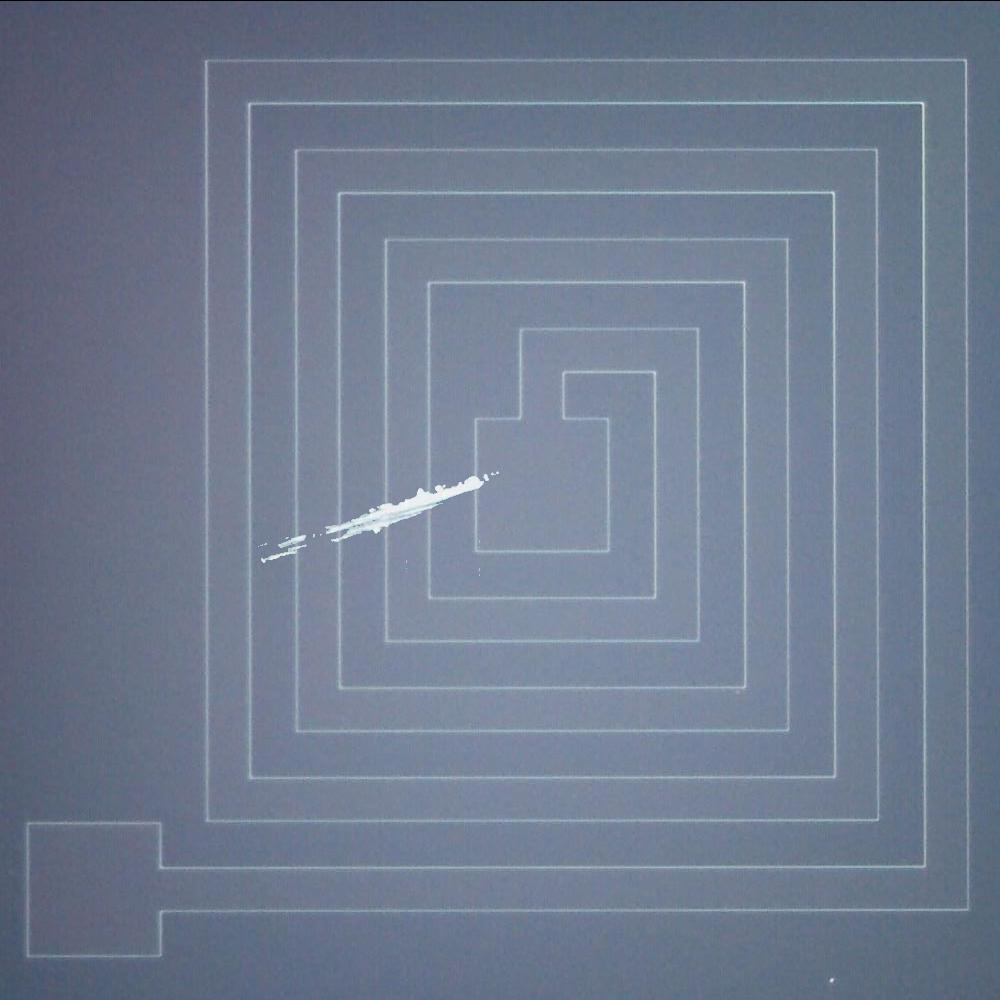dot: (822, 966, 844, 988)
scratch: (247, 460, 503, 572)
